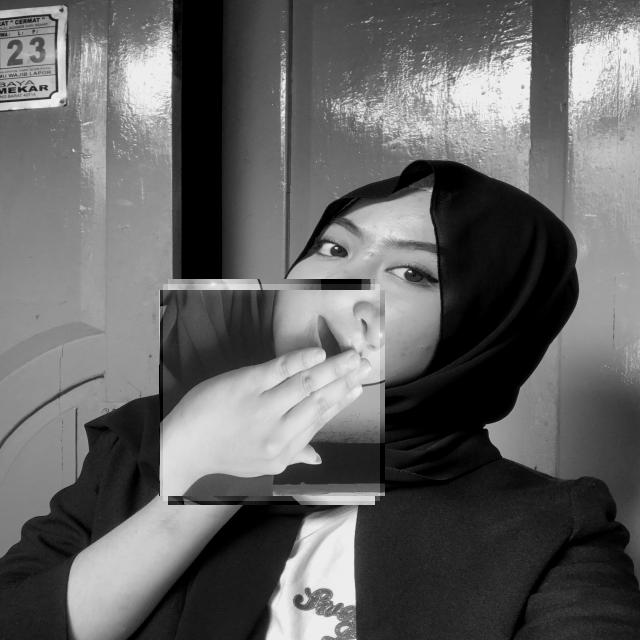ngantuk: (163, 284, 380, 501)
